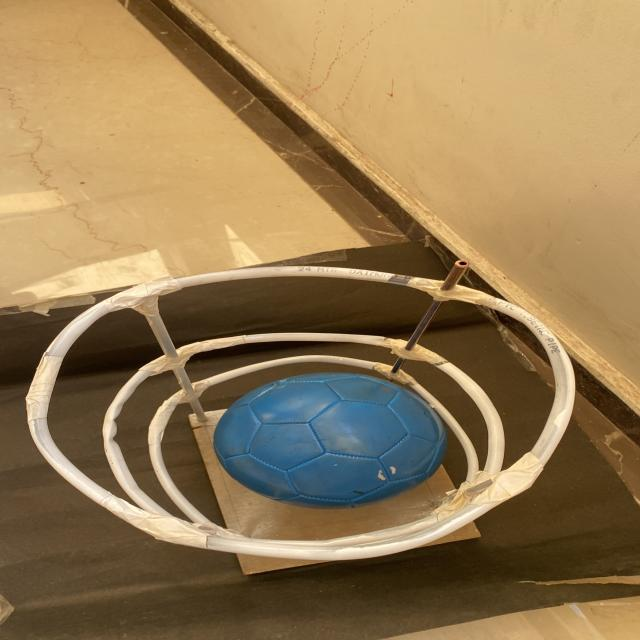blue_ball: (212, 368, 449, 506)
silo: (21, 264, 598, 572)
